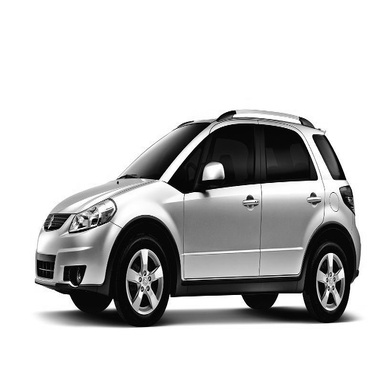car: (31, 105, 367, 327)
